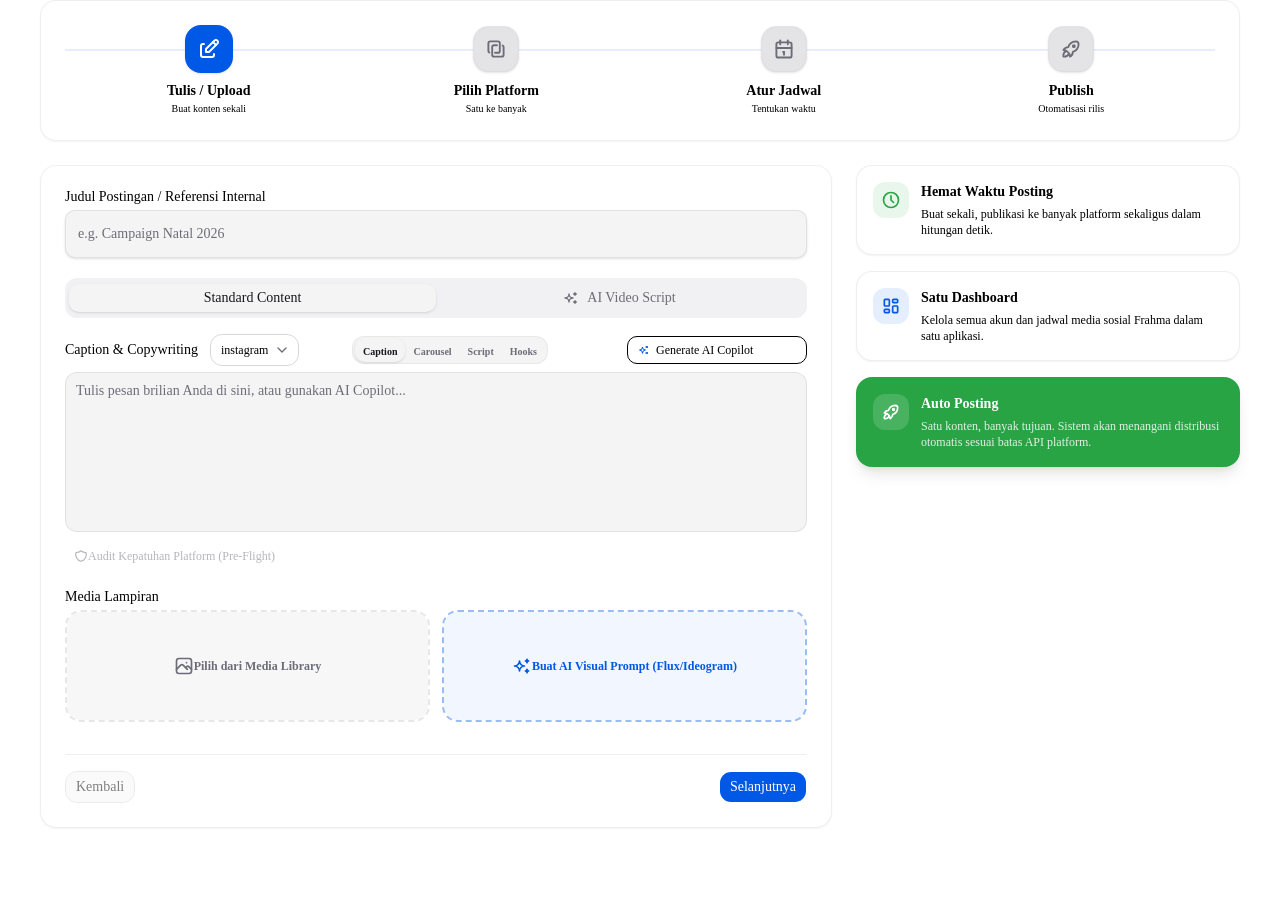
Test: ComposerClient › only lists channels with status "terhubung" as publish destinations
Click the button "Selanjutnya": (763, 787) 719,771 -> 807,803
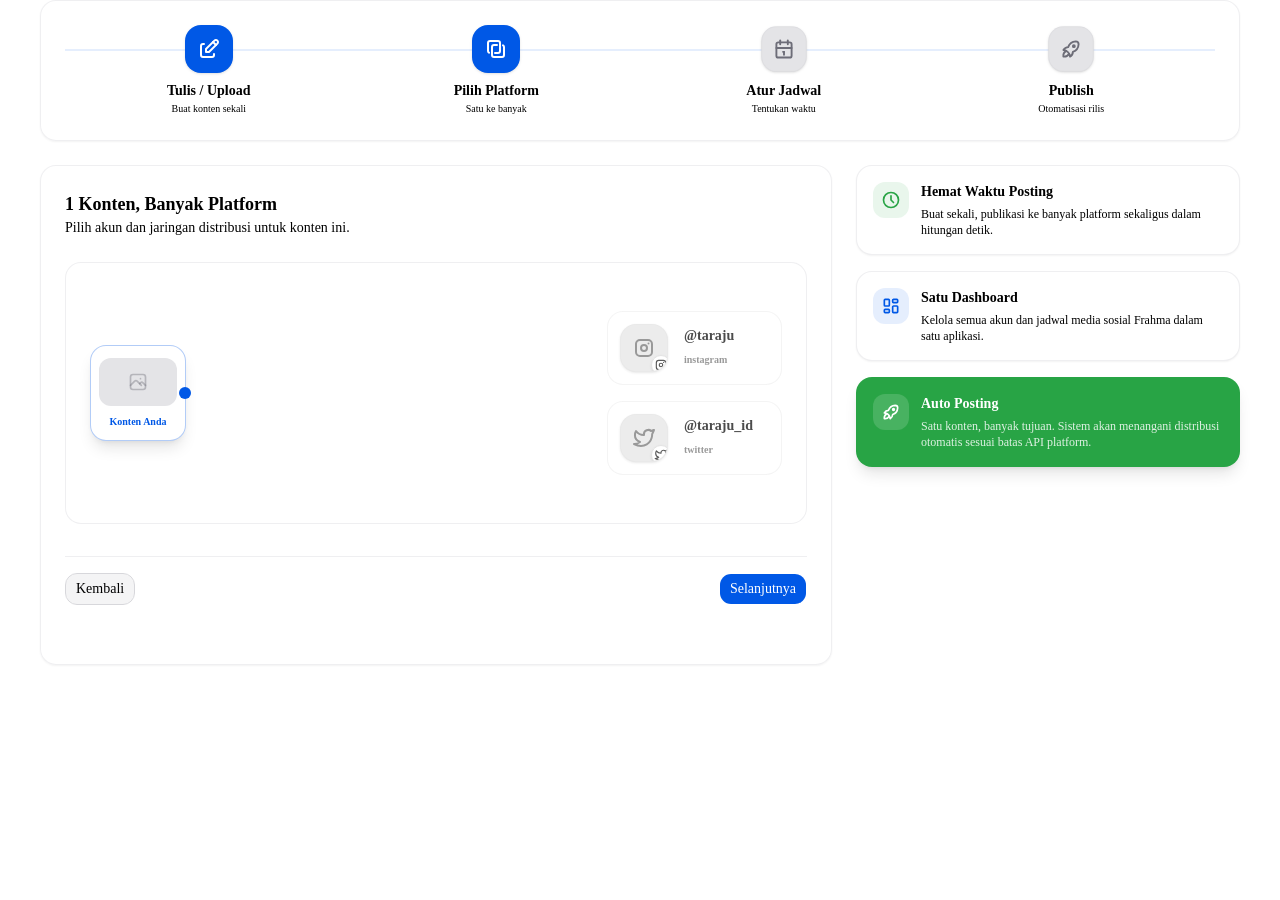
Now the text "@taraju" is shown, box 684,326 -> 734,346
Now the text "@taraju_id" is shown, box 684,416 -> 753,436
